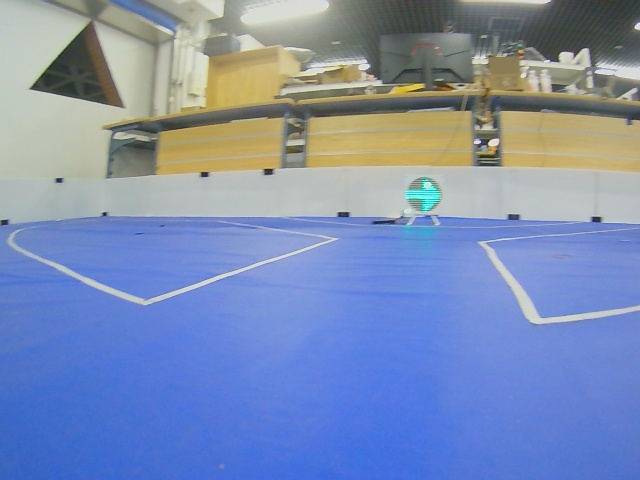right_green: (405, 177, 442, 214)
